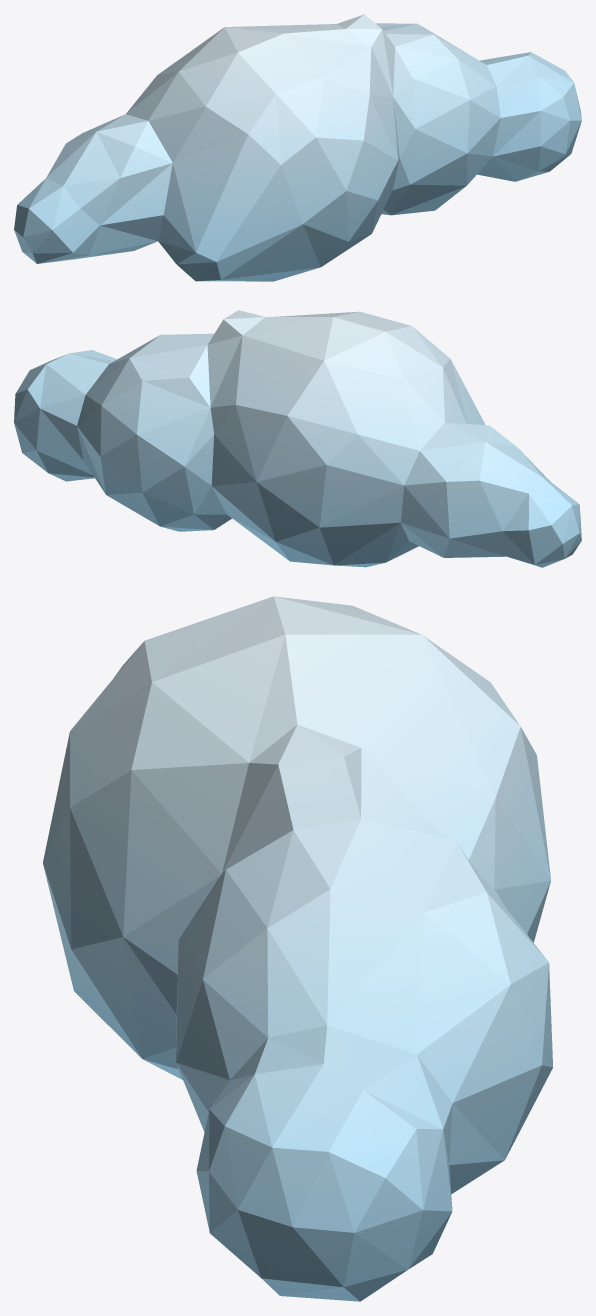
Rendered from cloud 2.fbx.
The picture shows the model from 3 angles, top to bottom: view 1: azimuth 30°, elevation 25°; view 2: azimuth 150°, elevation 25°; view 3: azimuth 270°, elevation 25°; orthographic projection. The views are drawn at different scales.
Parts seen in each view (by area): view 1: cloud 2; view 2: cloud 2; view 3: cloud 2.
Boxes of the visible parts, x1=… form: cloud 2: x1=14, y1=14, x2=581, y2=281; cloud 2: x1=14, y1=310, x2=581, y2=567; cloud 2: x1=43, y1=596, x2=552, y2=1301.
Bounding box in the file's own units: 829 × 329 × 332.
